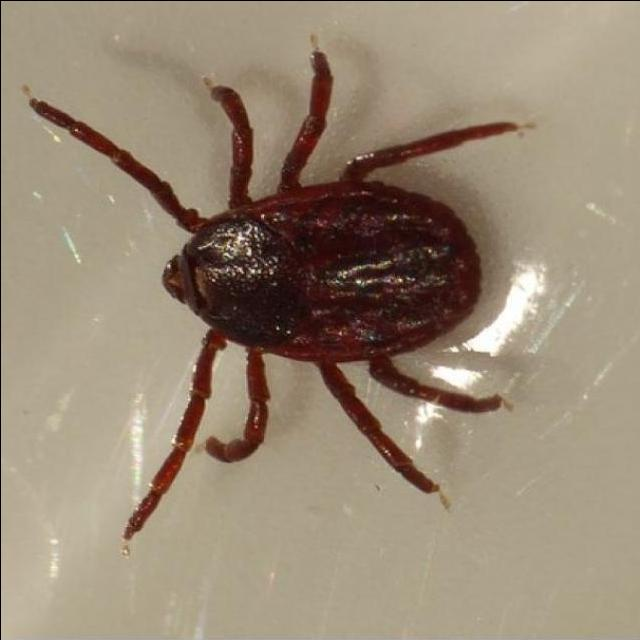Rhipicephalus Sanguineus-F: (32, 47, 520, 539)
